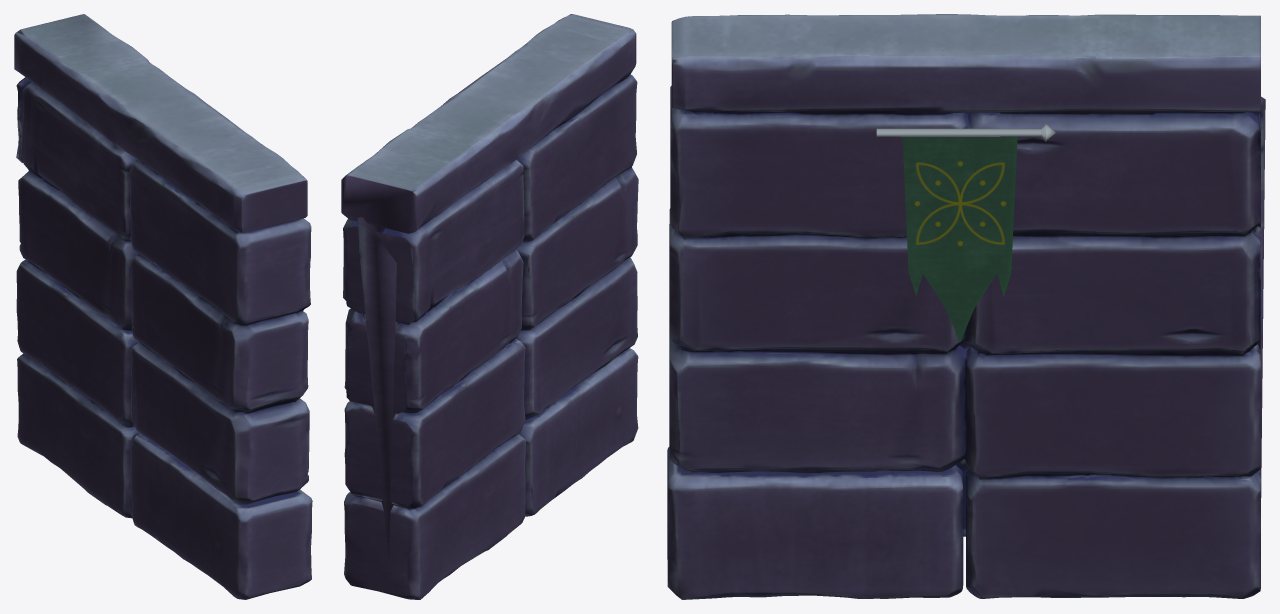
Rendered from WallBanner3.glb.
3 renders of one model, left to right at view 1: azimuth 30°, elevation 25°; view 2: azimuth 150°, elevation 25°; view 3: azimuth 270°, elevation 25°, orthographic. The views are drawn at different scales.
Parts seen in each view (by area): view 1: WallBanner3; view 2: WallBanner3; view 3: WallBanner3.
Part boxes in pixels (bbox=[...]): WallBanner3: bbox=[14, 14, 312, 599]; WallBanner3: bbox=[341, 14, 638, 599]; WallBanner3: bbox=[667, 14, 1265, 599].
Size of the model in its own units: 2.47 by 10 by 10.
Materials: 2 (2 with a texture image).
